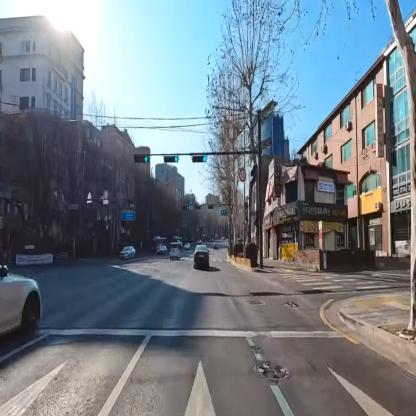Green: (135, 151, 150, 163), (163, 152, 179, 163), (191, 154, 207, 164)
